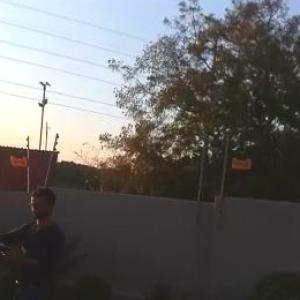follow: (0, 176, 67, 299)
